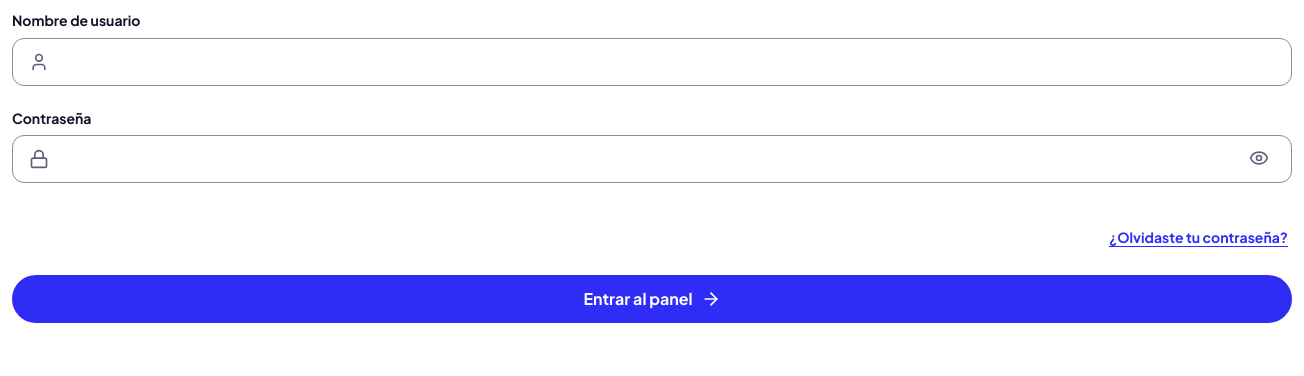
LoginForm: validación › borra el error de un campo al editarlo
Click the button with test id "login-submit" at (652, 299), box x1=12 y1=275 x2=1292 y2=323
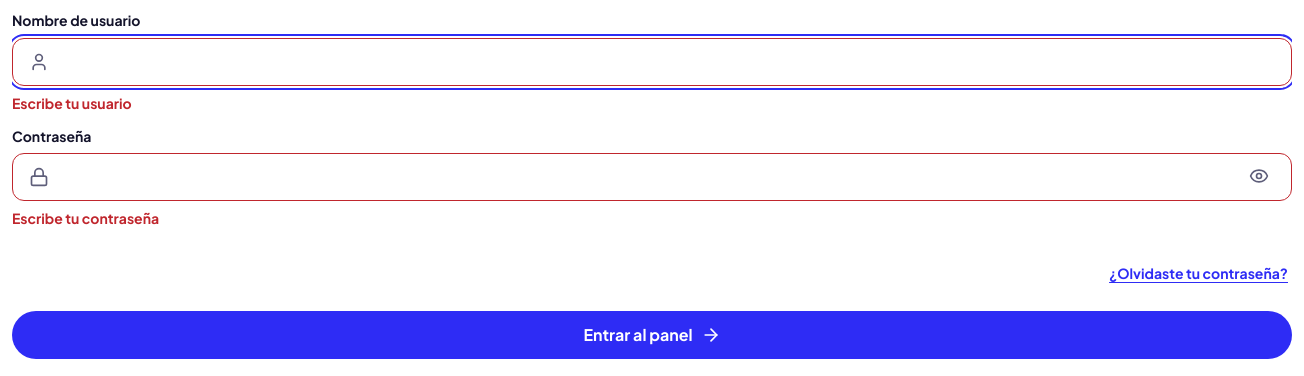
Type "a" into the field labelled "Nombre de usuario" at (666, 62), box x1=57 y1=40 x2=1275 y2=84
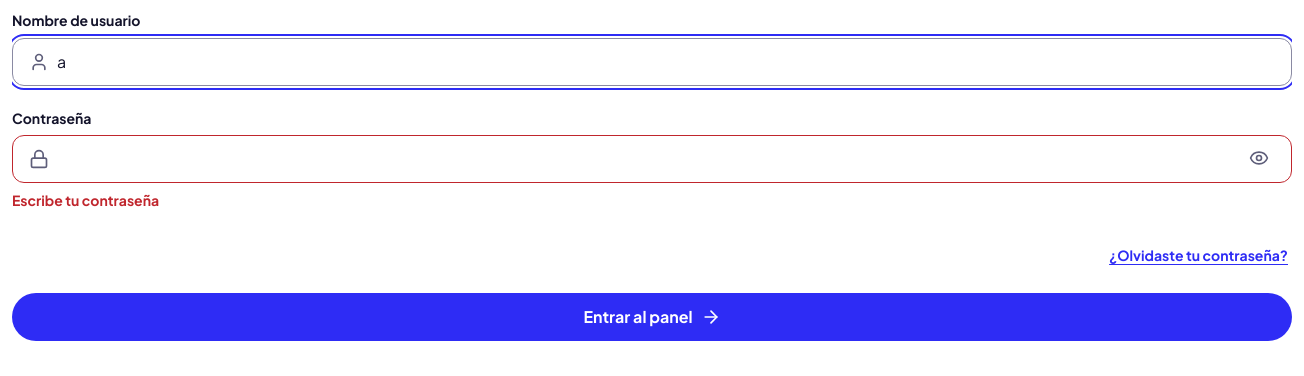
Check: the text "Escribe tu contraseña" is shown, box x1=12 y1=191 x2=159 y2=209
Check: the text with test id "login-username-error" is gone
